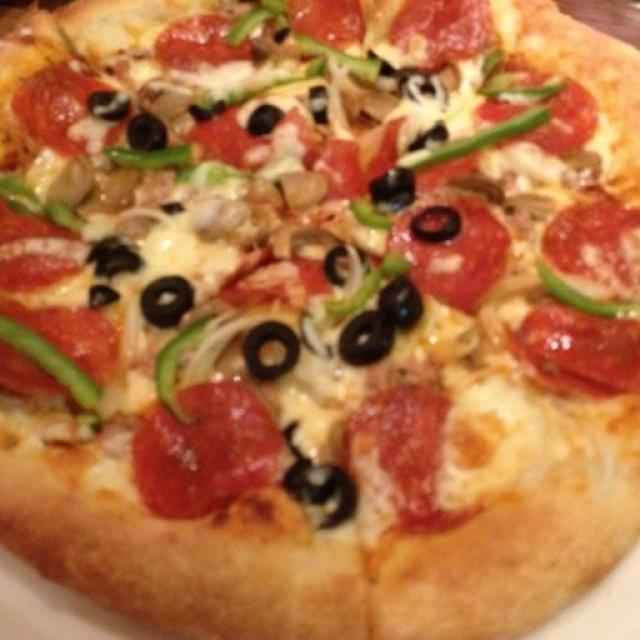Green Pepper: (0, 308, 103, 410), (406, 110, 542, 166), (538, 258, 638, 318), (478, 57, 566, 106), (159, 326, 198, 424), (303, 31, 382, 79), (329, 268, 376, 314), (0, 169, 49, 211), (231, 0, 280, 42), (112, 148, 195, 170), (352, 197, 393, 228)
Olives: (283, 423, 357, 532), (49, 153, 124, 209), (243, 323, 300, 382), (339, 316, 396, 370), (142, 276, 195, 326), (273, 169, 327, 211), (91, 237, 140, 281), (380, 279, 422, 329), (368, 168, 418, 205), (411, 210, 467, 243), (321, 246, 363, 286), (126, 112, 167, 150), (244, 103, 284, 136), (408, 75, 449, 107), (407, 122, 449, 150), (87, 92, 124, 121), (87, 284, 118, 312), (308, 85, 329, 124), (338, 514, 353, 526)
Pepperoni: (356, 388, 488, 533), (142, 385, 279, 520), (396, 201, 511, 321), (0, 310, 116, 400), (12, 64, 128, 153), (524, 304, 638, 394), (544, 187, 640, 289), (0, 205, 86, 289), (389, 0, 489, 70), (160, 17, 253, 65), (300, 2, 361, 48), (196, 122, 251, 162)
Pizza: (0, 0, 640, 640)
